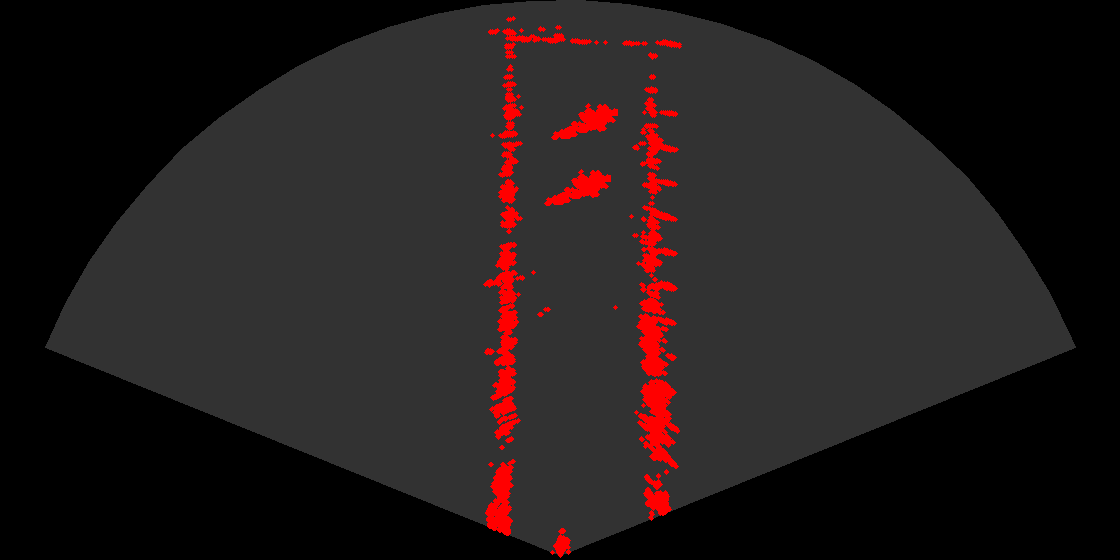frogman: (550, 97, 618, 144), (543, 163, 611, 210)
